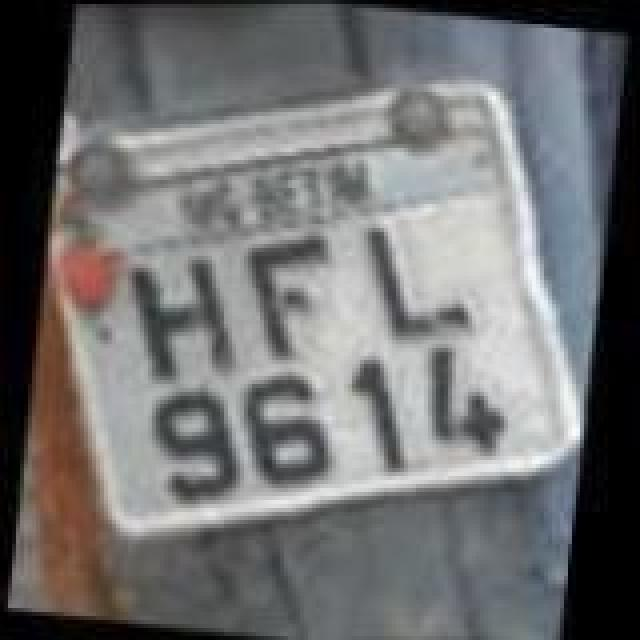1: (340, 350, 428, 466)
4: (422, 348, 522, 460)
6: (240, 368, 352, 500)
9: (138, 378, 262, 518)
F: (230, 224, 334, 372)
H: (116, 244, 256, 396)
L: (352, 218, 492, 358)
